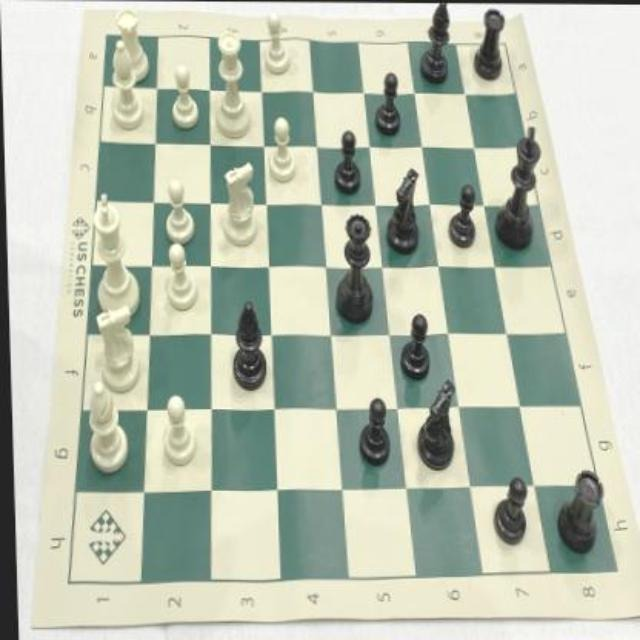black-bishop: (226, 300, 266, 396), (417, 2, 453, 85)
black-king: (491, 118, 544, 254)
black-knight: (413, 374, 457, 474), (383, 164, 421, 256)
black-pawn: (487, 470, 527, 548), (354, 395, 390, 467), (329, 127, 365, 199), (444, 182, 479, 254), (394, 310, 429, 380), (368, 67, 403, 137)
black-queen: (330, 209, 373, 327)
black-rook: (551, 462, 604, 554), (471, 3, 509, 84)
white-bishop: (81, 377, 128, 473), (104, 38, 145, 131)
white-king: (88, 189, 140, 321)
white-knight: (91, 303, 141, 393), (217, 162, 258, 250)
white-pawn: (156, 242, 199, 314), (158, 394, 196, 469), (166, 63, 202, 135), (159, 175, 194, 247), (258, 7, 293, 79), (265, 114, 300, 184)
white-queen: (209, 23, 253, 143)
white-rook: (114, 6, 150, 84)
